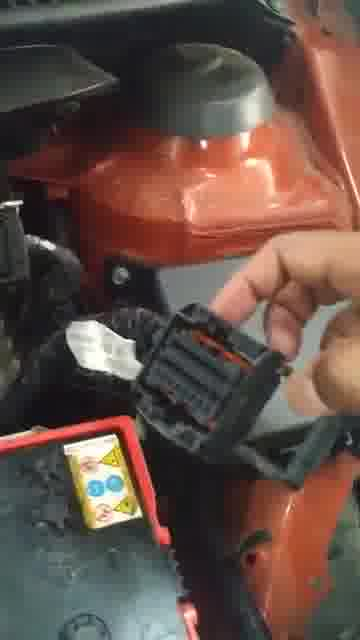connector: (133, 303, 286, 456)
